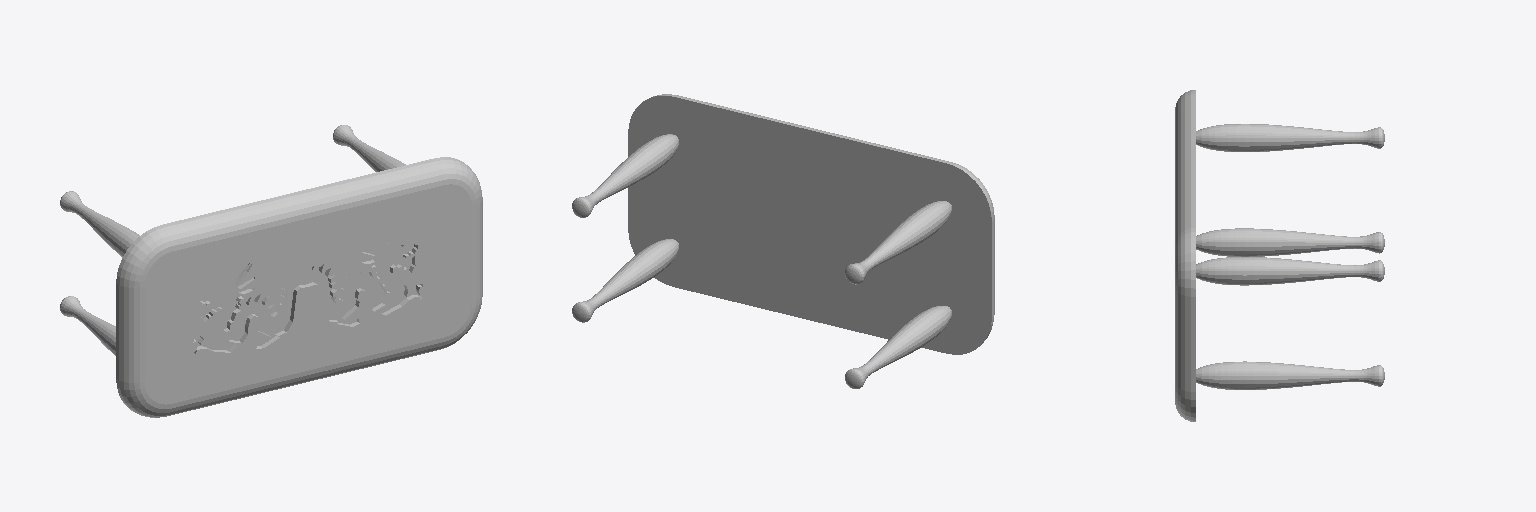
The model's file is Table.obj.
The picture shows the model from 3 angles: view 1: azimuth 30°, elevation 25°; view 2: azimuth 150°, elevation 25°; view 3: azimuth 270°, elevation 25°; orthographic projection.
Parts seen in each view (by area): view 1: Table; view 2: Table; view 3: Table.
Boxes of the visible parts, box(x1,y1,x2,y2) form: Table: box(60, 125, 482, 417); Table: box(572, 94, 994, 388); Table: box(1175, 90, 1384, 421).
Bounding box in the file's own units: 2 × 1 × 1.